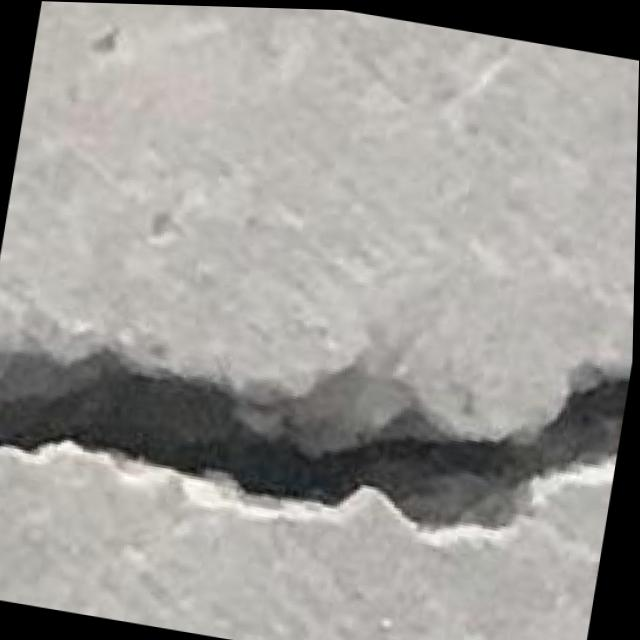Crack: (0, 249, 636, 584)
